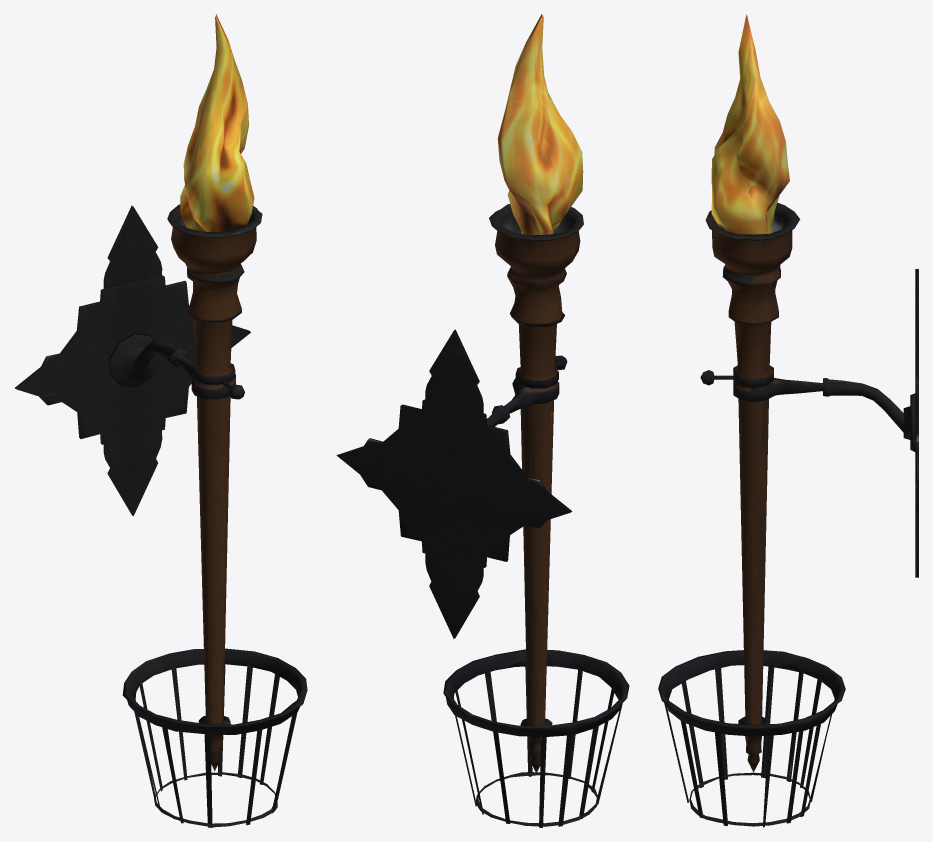
3 renders of one model, left to right at view 1: azimuth 30°, elevation 25°; view 2: azimuth 150°, elevation 25°; view 3: azimuth 270°, elevation 25°, orthographic.
Size of the model in its own units: 0.2964 by 0.9517 by 0.2856.
Materials: 1 (1 with a texture image).
